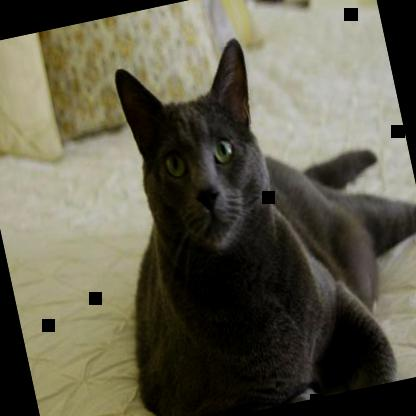cat: (74, 6, 415, 415)
